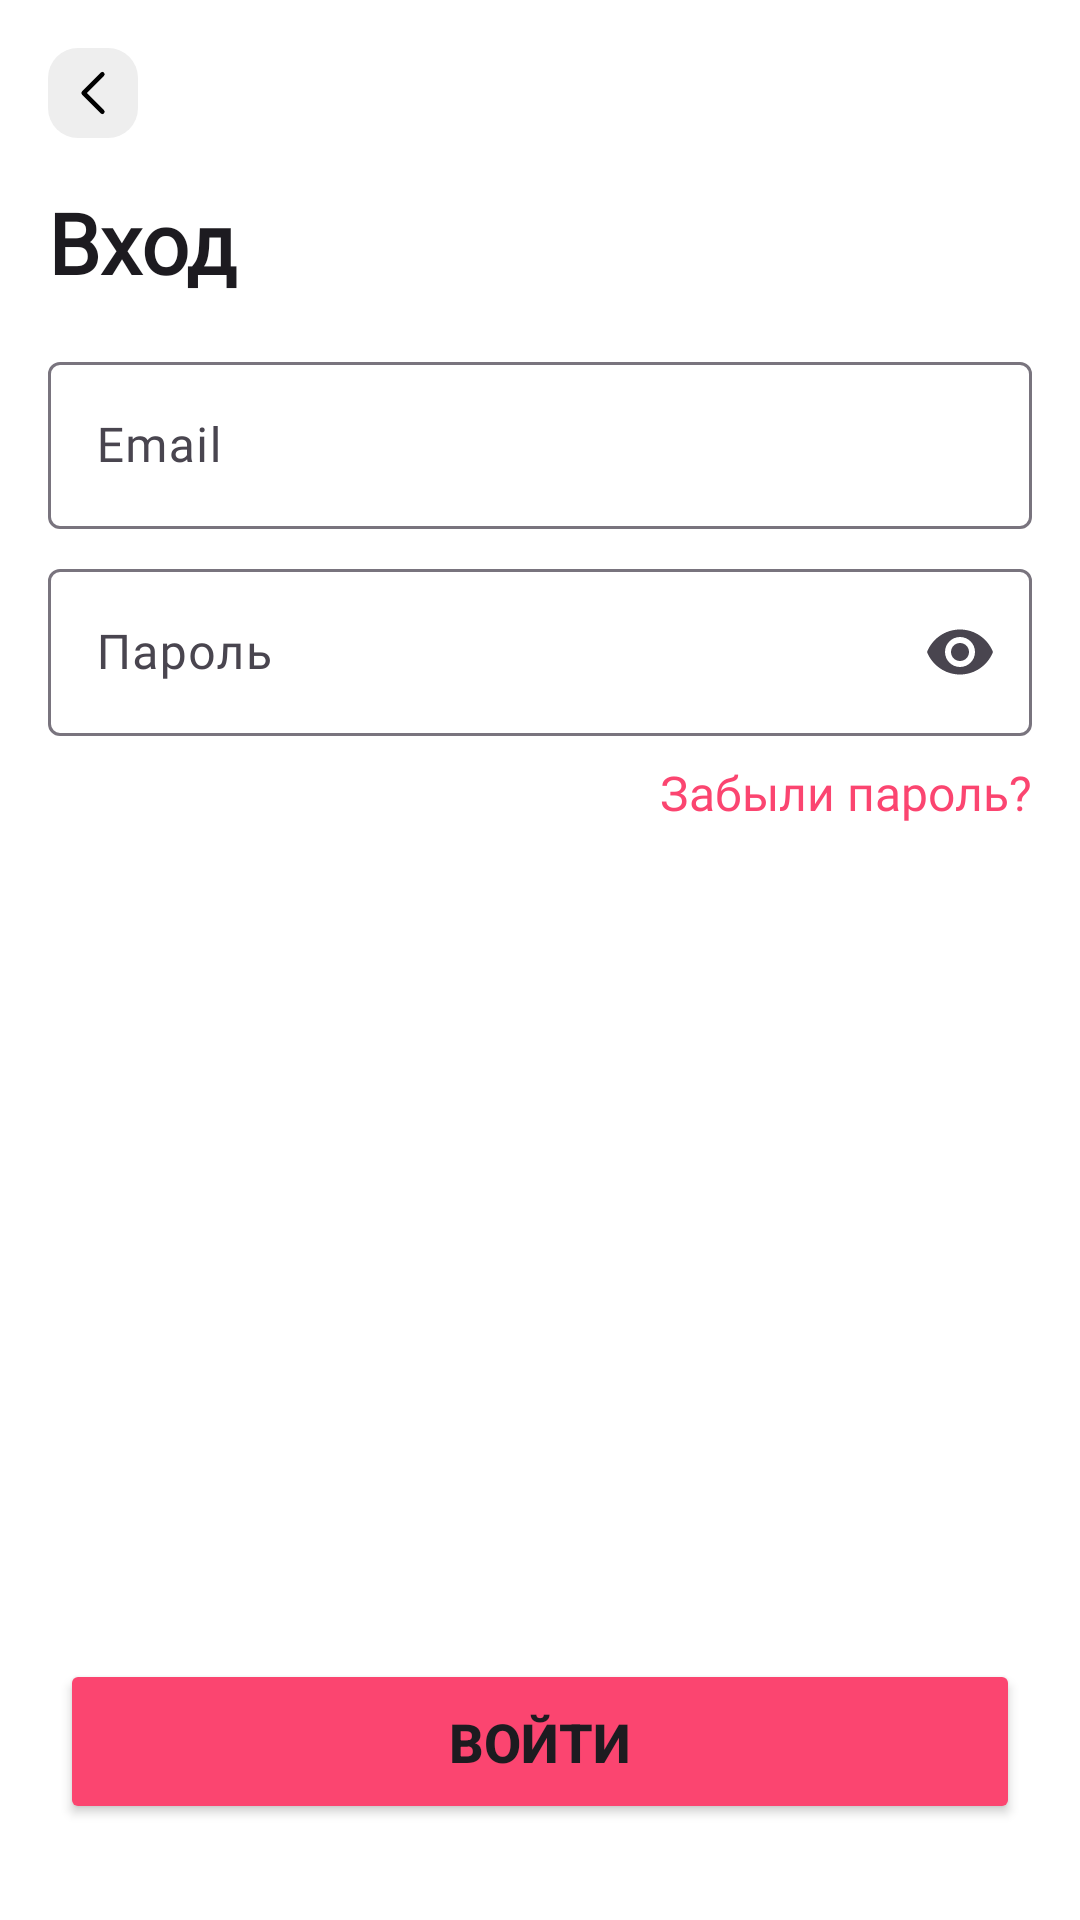

Icons on this 1080w x 1920h Android screen, each with its box as (x1, y1, x2, y2):
arrow left: (48, 48, 138, 138)
